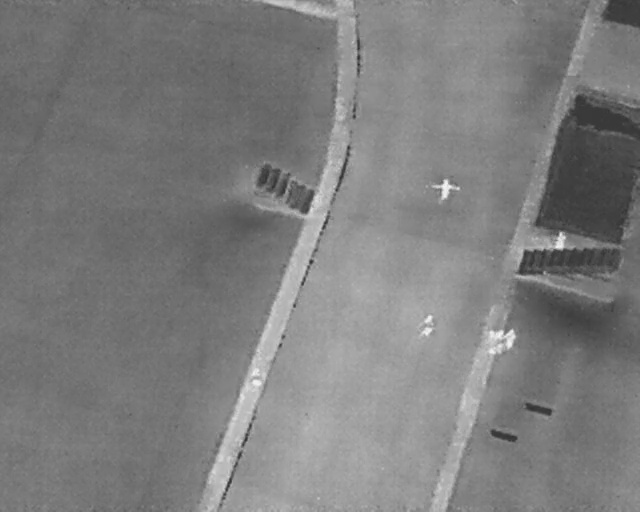Person: (417, 311, 437, 339), (502, 328, 519, 352), (437, 176, 452, 203), (249, 366, 263, 390), (554, 229, 568, 251), (485, 329, 503, 342), (486, 343, 503, 356)
